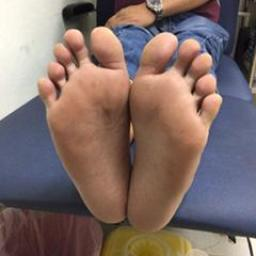Plantar View -Both Feet-: (28, 17, 226, 243)
